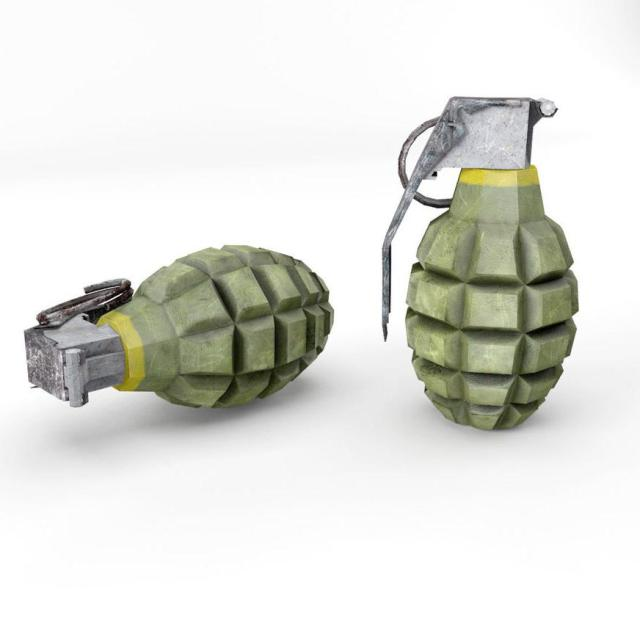grenade: (383, 97, 581, 432), (24, 245, 336, 432)
